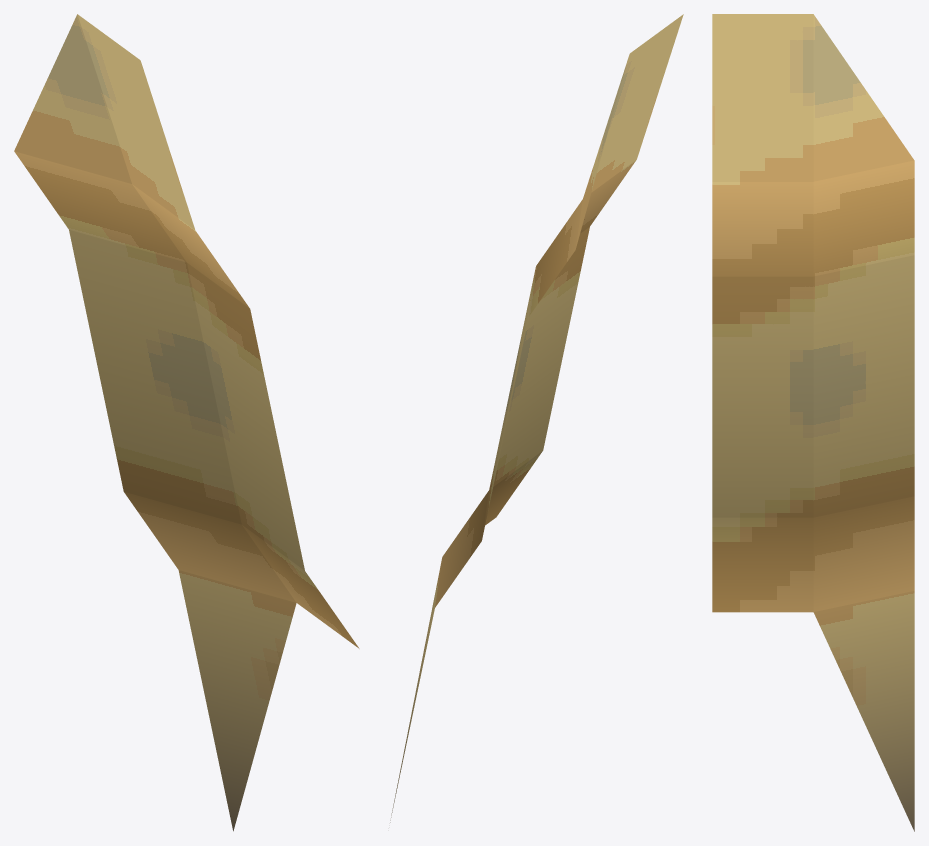
3 renders of one model, left to right at view 1: azimuth 30°, elevation 25°; view 2: azimuth 150°, elevation 25°; view 3: azimuth 270°, elevation 25°, orthographic. The views are drawn at different scales.
Bounding box in the file's own units: 1 × 4 × 1.
Materials: 1 (1 with a texture image).
